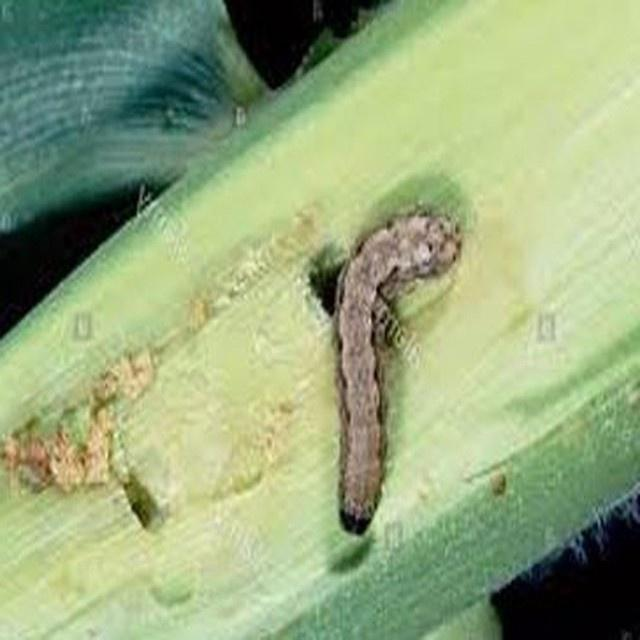gusano_cogollero: (335, 206, 457, 534)
